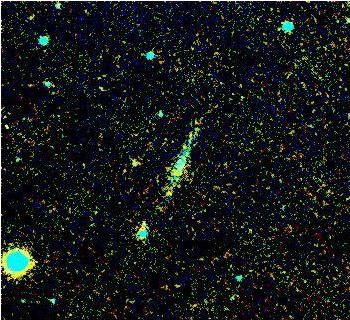star: (157, 177, 187, 207)
